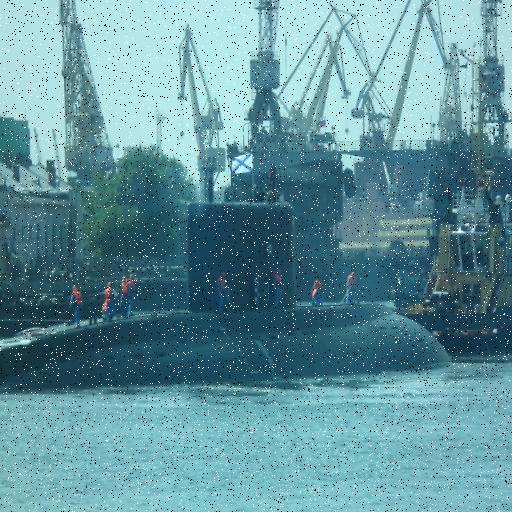submarine: (1, 194, 455, 396)
